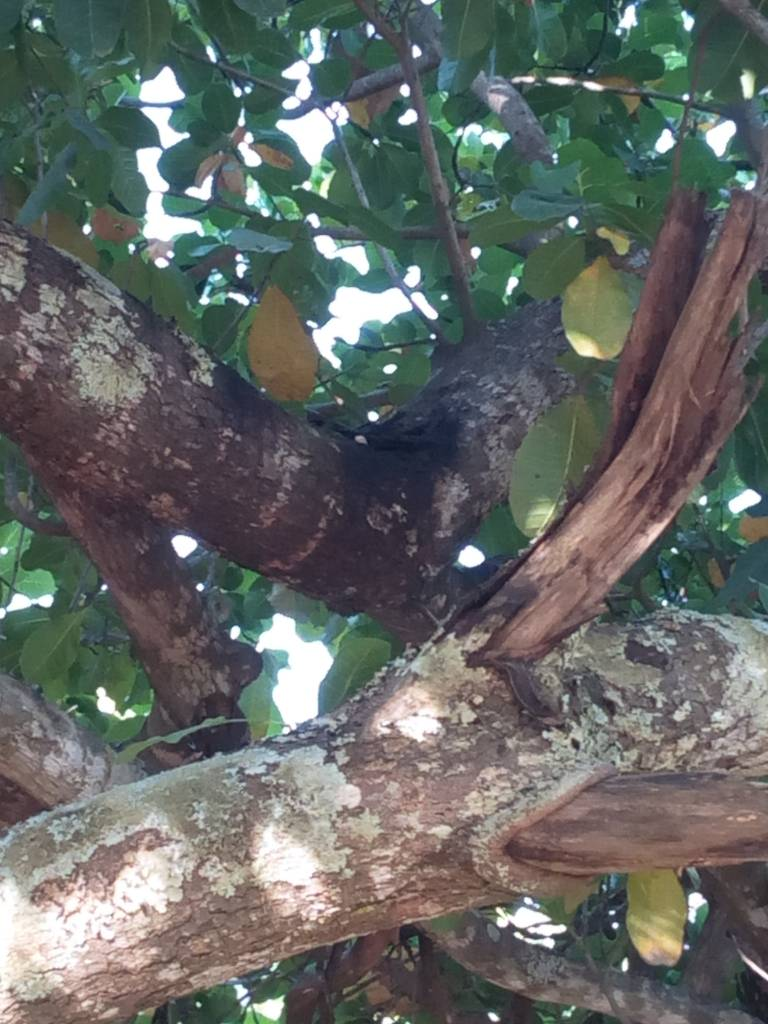Gommose: (318, 407, 469, 505)
